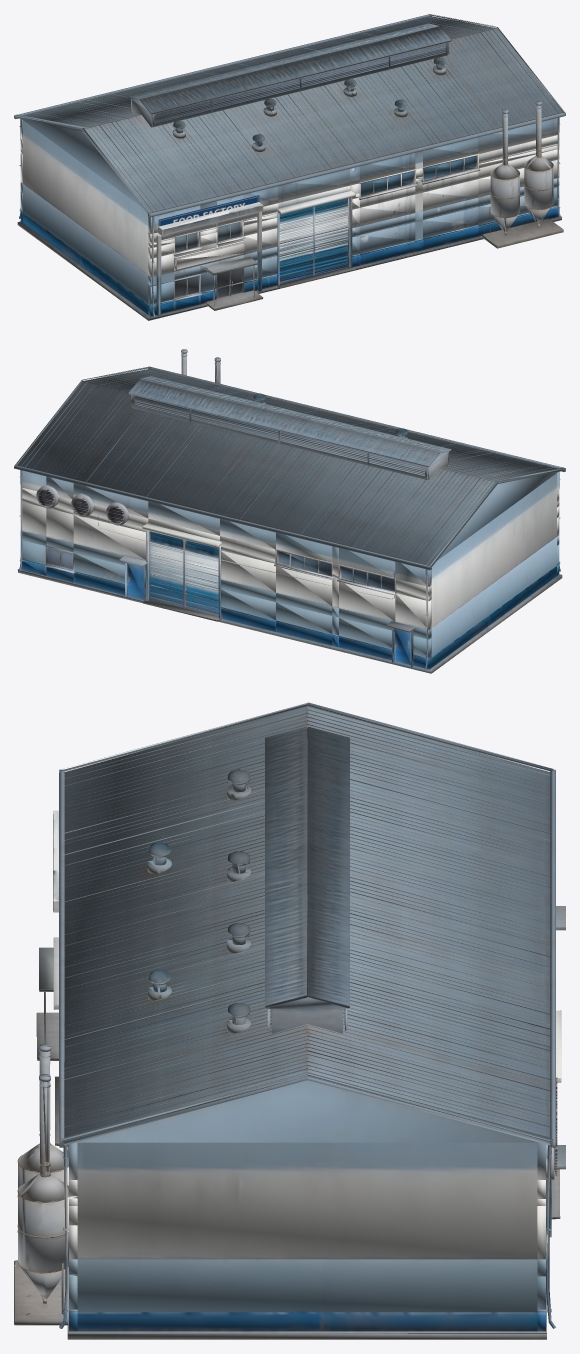
Rendered from food_factory.glb.
3 views of the same model, one above another, from view 1: azimuth 30°, elevation 25°; view 2: azimuth 150°, elevation 25°; view 3: azimuth 270°, elevation 25° (orthographic). The views are drawn at different scales.
Parts seen in each view (by area): view 1: building; view 2: building; view 3: building.
Part boxes in pixels (<box>): building: <box>14,14,565,320</box>; building: <box>14,349,565,673</box>; building: <box>14,702,565,1339</box>.
Size of the model in its own units: 1.9 by 0.6984 by 1.19.
Materials: 2 (2 with a texture image).
